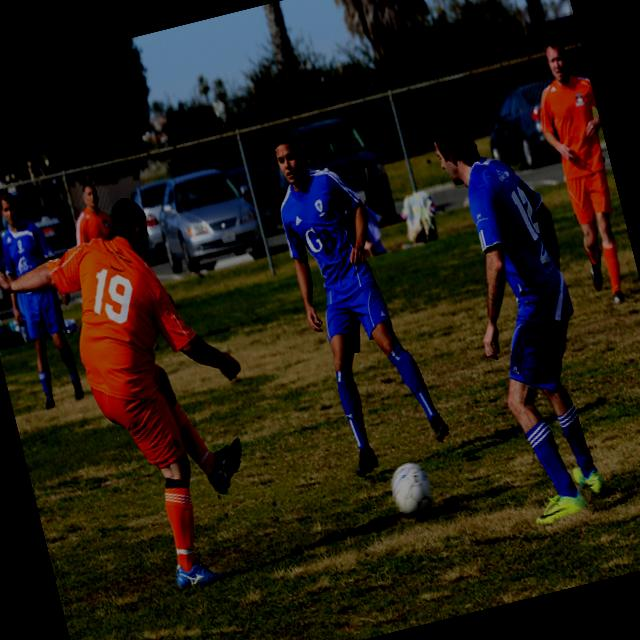Vehicle: (146, 156, 266, 280), (297, 110, 400, 242), (476, 76, 574, 178), (7, 174, 79, 257), (224, 158, 291, 242), (128, 176, 188, 266), (0, 253, 14, 314), (0, 223, 10, 277)
